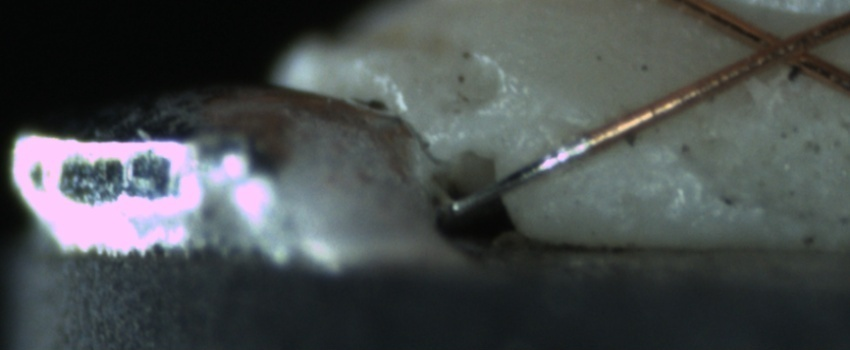CL: (730, 15, 826, 77)
TS: (445, 135, 595, 211)
TTCW: (442, 125, 612, 217)
